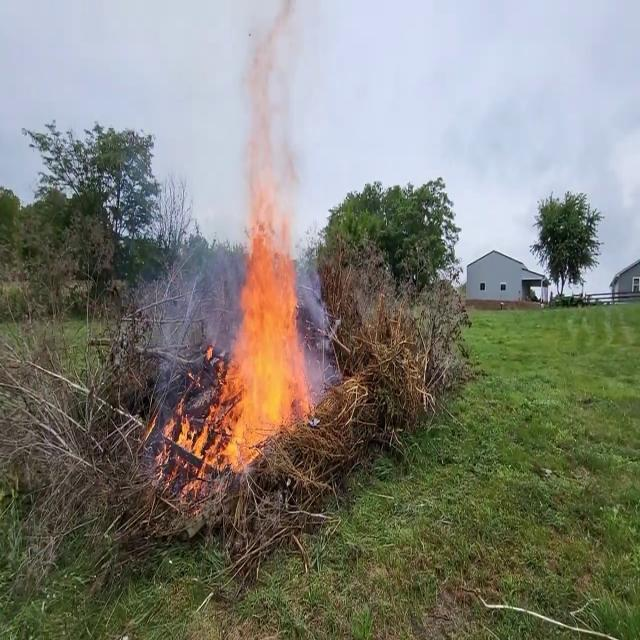Fire: (161, 191, 318, 482)
